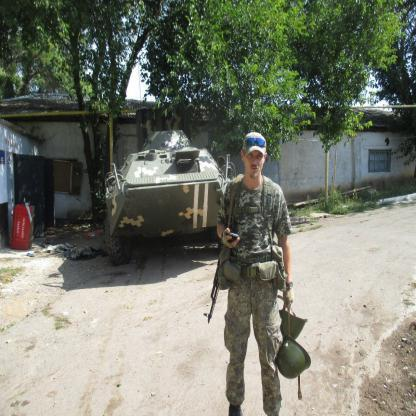MIL_IFV: (102, 128, 239, 265)
